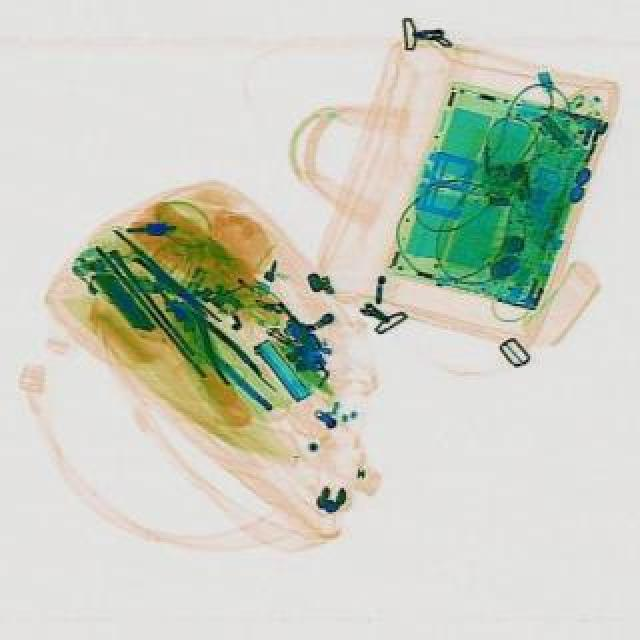wrench: (168, 300, 262, 396)
